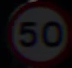Speed limit: (8, 2, 67, 61)
